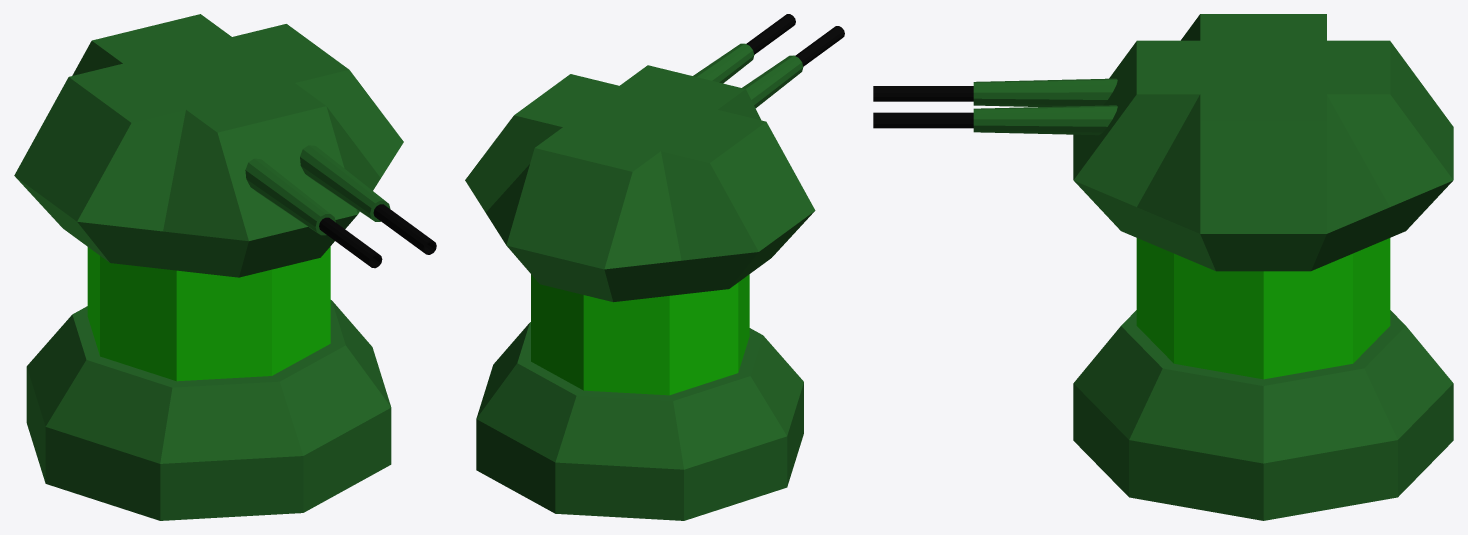
Rendered from Turret1_0.glb.
3 renders of one model, left to right at view 1: azimuth 30°, elevation 25°; view 2: azimuth 150°, elevation 25°; view 3: azimuth 270°, elevation 25°, orthographic. The views are drawn at different scales.
Visible parts, largest first — view 1: TurretUpgradePath1_0; view 2: TurretUpgradePath1_0; view 3: TurretUpgradePath1_0.
Part boxes in pixels (x1,y1,x2,y2): TurretUpgradePath1_0: (14,14,436,520); TurretUpgradePath1_0: (465,14,844,520); TurretUpgradePath1_0: (873,14,1453,520).
Size of the model in its own units: 3 by 3.25 by 4.58.
